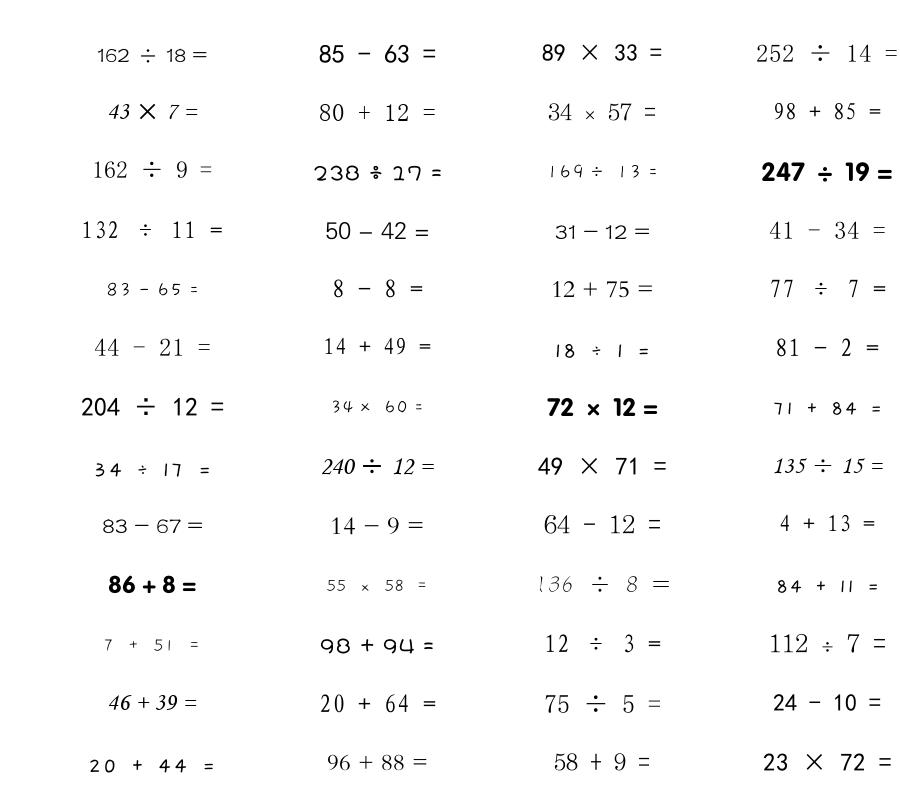MQ: (81, 397, 224, 417), (761, 162, 893, 182), (756, 44, 898, 62), (81, 221, 223, 239), (544, 514, 661, 534), (769, 633, 886, 653), (538, 457, 667, 475), (763, 753, 892, 771), (535, 576, 670, 593), (319, 44, 436, 63), (769, 279, 886, 298), (544, 634, 661, 653), (319, 694, 436, 713), (547, 397, 658, 417), (769, 221, 886, 239), (94, 338, 211, 356), (544, 695, 661, 713), (313, 165, 442, 181), (542, 44, 662, 61), (92, 161, 212, 178), (319, 104, 436, 121), (775, 338, 879, 357), (548, 103, 656, 121), (773, 102, 881, 120), (323, 337, 431, 355), (773, 694, 881, 712), (320, 458, 434, 475), (325, 222, 430, 240), (320, 638, 434, 654), (88, 759, 216, 773), (772, 458, 883, 474), (551, 281, 654, 298), (332, 279, 423, 298), (779, 514, 875, 532), (554, 753, 650, 771), (327, 754, 428, 771), (330, 517, 424, 535), (546, 164, 658, 179), (108, 575, 196, 594), (93, 463, 212, 477), (97, 48, 207, 63), (107, 103, 198, 120), (554, 343, 651, 358), (772, 402, 883, 415), (102, 519, 203, 533), (106, 282, 199, 297), (775, 580, 880, 593), (107, 695, 197, 710), (555, 225, 650, 239), (326, 579, 428, 592), (330, 400, 424, 414), (103, 639, 201, 652)
